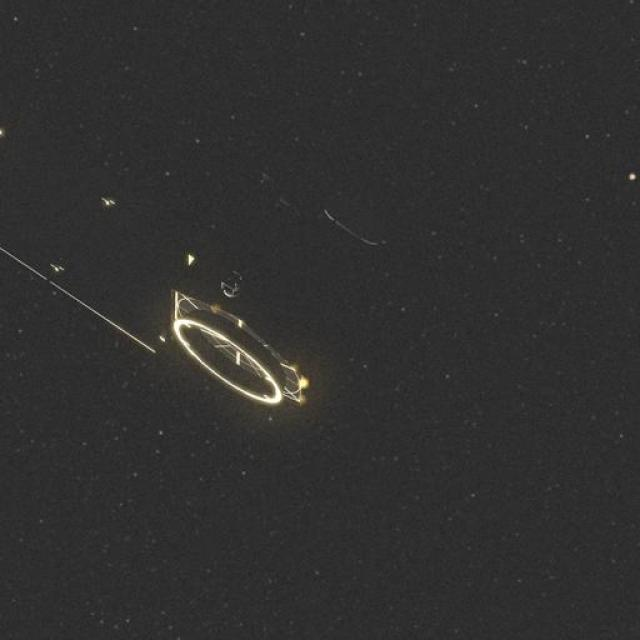earth_observation_sat_1: (106, 174, 396, 422)
